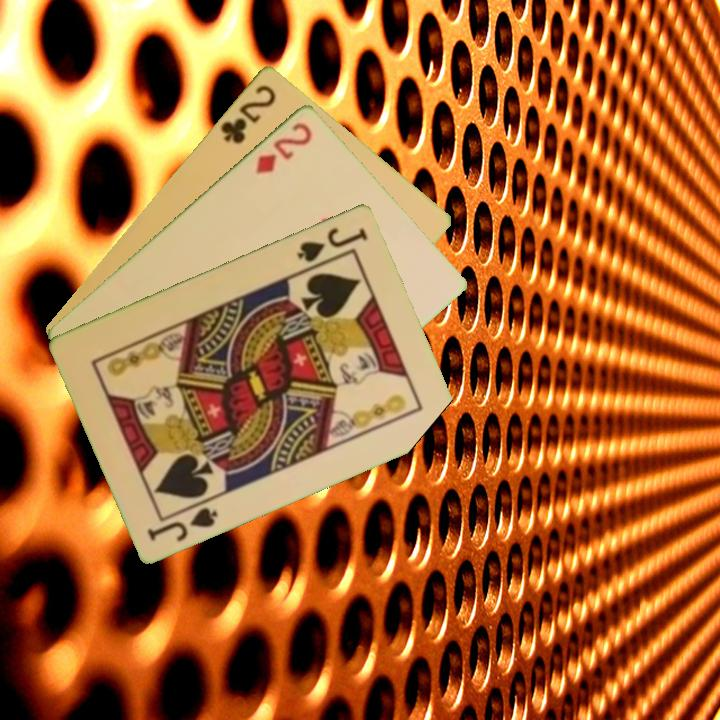2c: (216, 80, 279, 147)
2d: (252, 118, 315, 177)
Js: (293, 223, 371, 265), (144, 503, 221, 544)
